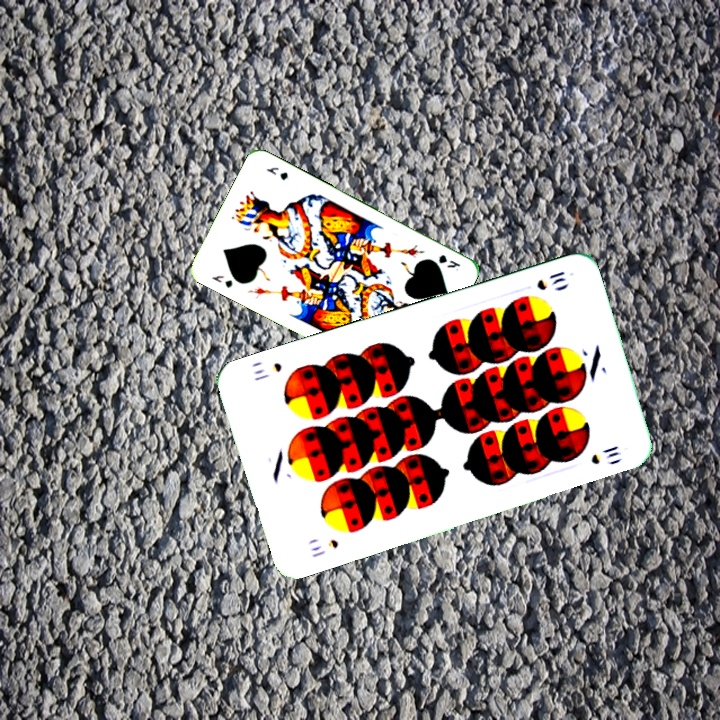GK: (434, 250, 463, 274), (207, 271, 235, 291)
S10: (532, 267, 568, 293), (307, 535, 341, 560)
